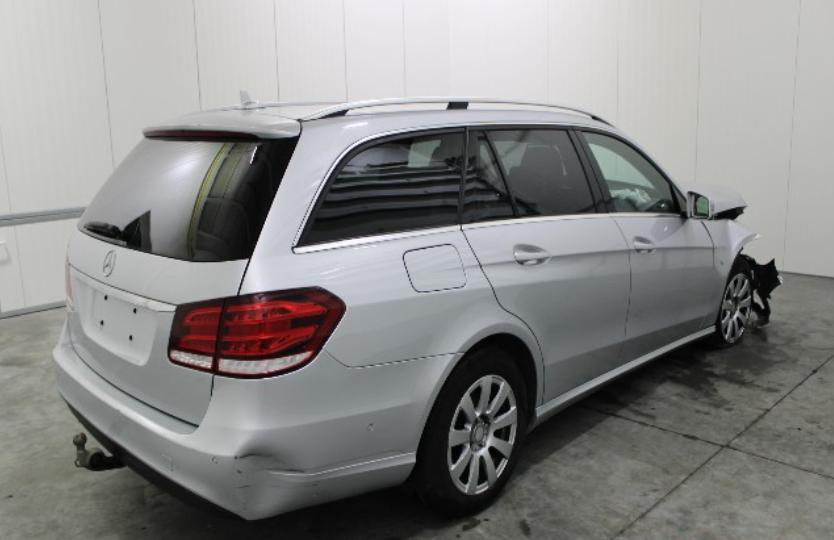Back-bumper: (49, 317, 464, 523)
Back-door: (460, 125, 632, 402)
Back-wheel: (410, 349, 526, 513)
Back-window: (298, 129, 465, 247), (491, 132, 596, 215), (469, 146, 510, 220)
Back-windshield: (76, 136, 297, 263)
Fender: (699, 219, 758, 330)
Front-door: (575, 129, 713, 367)
Front-wheel: (710, 268, 753, 345)
Front-window: (584, 135, 679, 213)
Hood: (683, 183, 745, 218)
Mirror: (688, 192, 712, 218)
Quarter-panel: (238, 225, 545, 406)
Rocker-panel: (530, 326, 715, 431)
Roof: (196, 98, 611, 146)
Tail-light: (217, 288, 342, 376), (169, 300, 222, 372), (66, 251, 71, 308)
Trunk: (67, 228, 247, 425), (142, 112, 300, 139)
